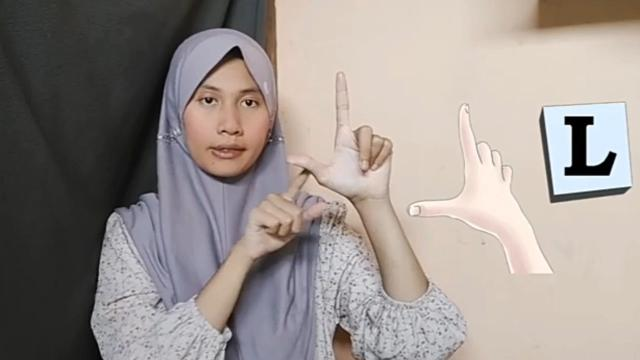L: (283, 68, 395, 200)
